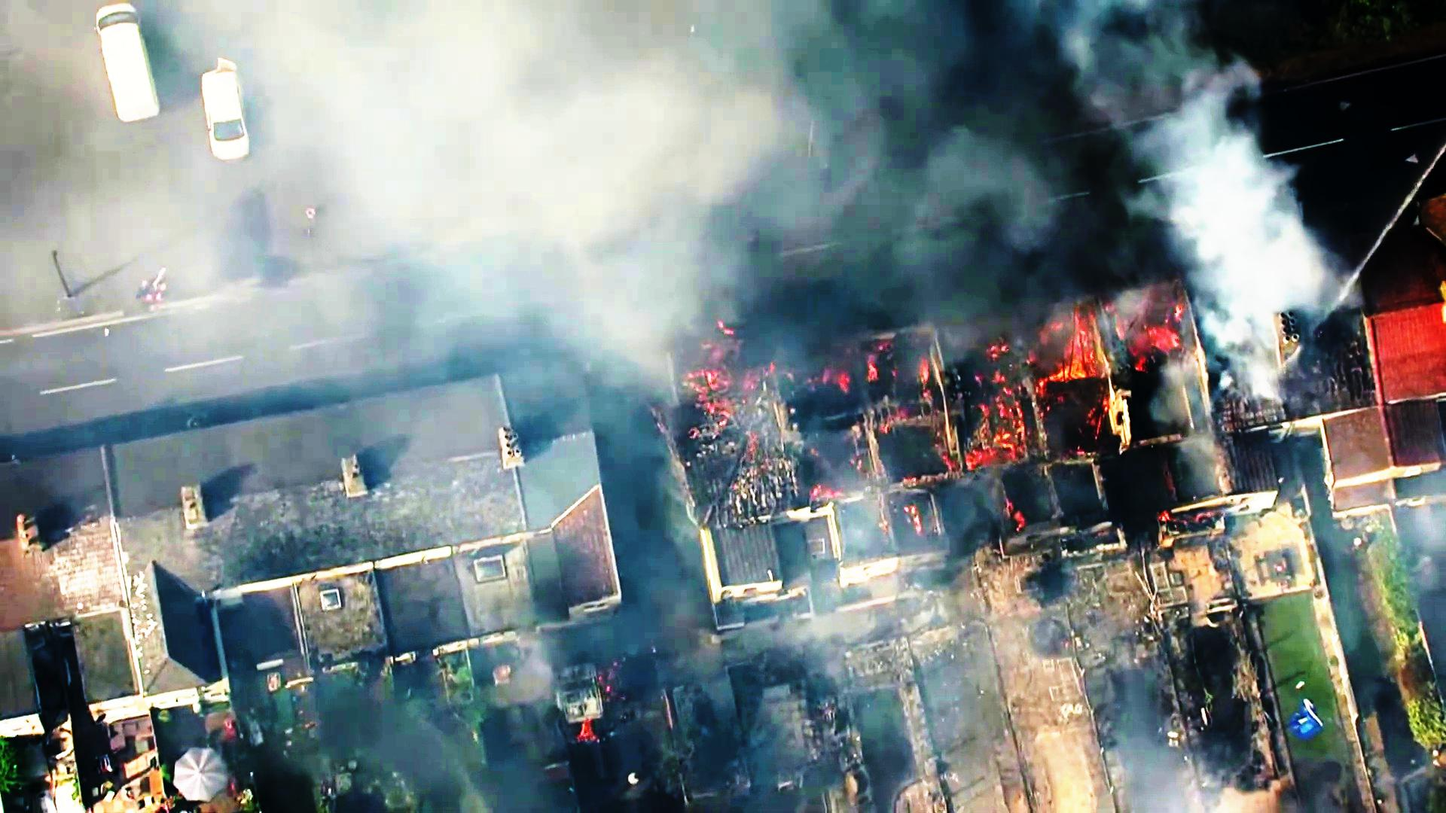fire: (1014, 300, 1113, 392)
smoke: (349, 0, 752, 266), (1202, 155, 1344, 323)
